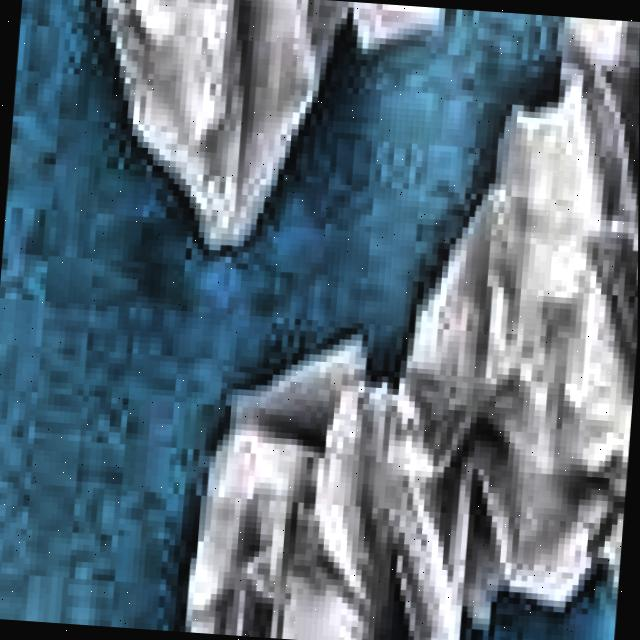paper: (182, 16, 640, 640), (97, 0, 452, 253)
